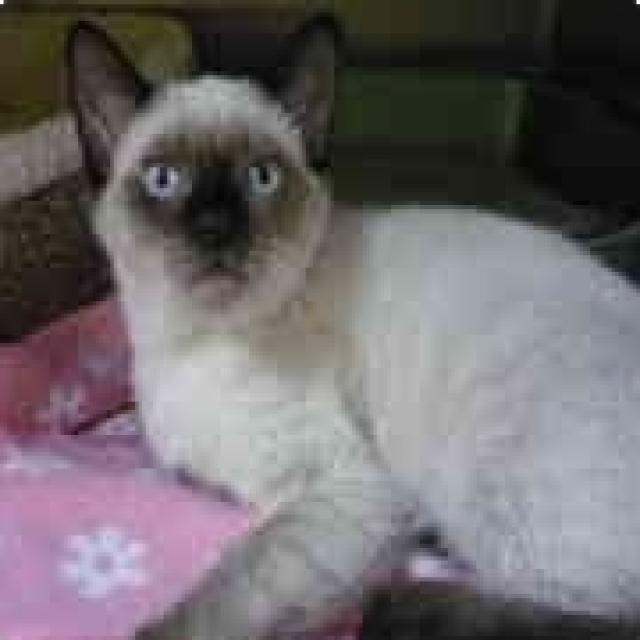Siamese: (60, 4, 640, 640)
